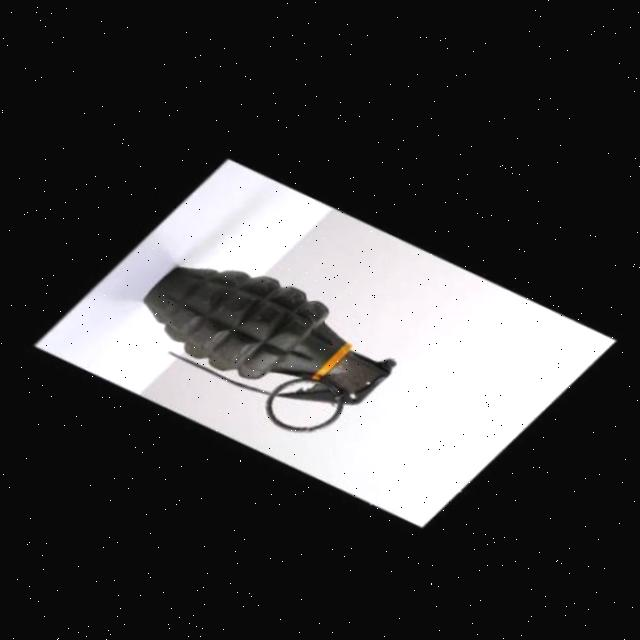grenade: (122, 213, 424, 469)
